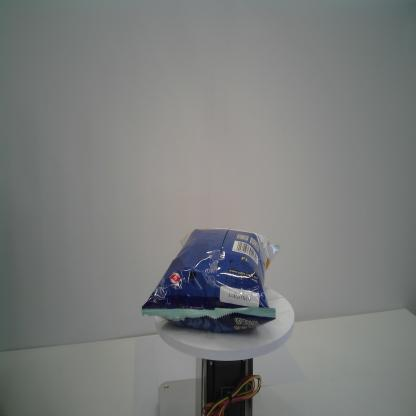Puffed Food: (141, 228, 282, 333)
